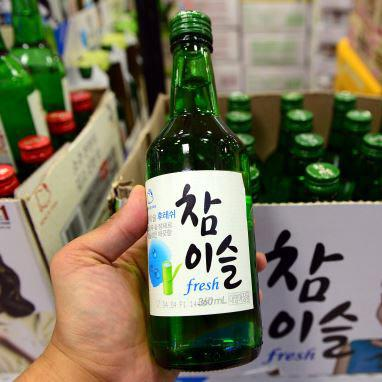soju: (142, 9, 266, 371)
